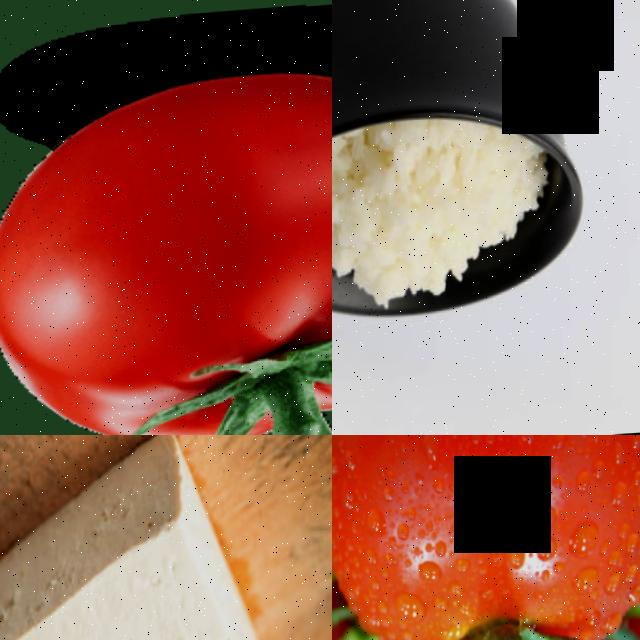tofu: (0, 435, 289, 640)
tomato: (0, 53, 332, 435), (332, 435, 640, 640)
white rice: (332, 113, 555, 314)
